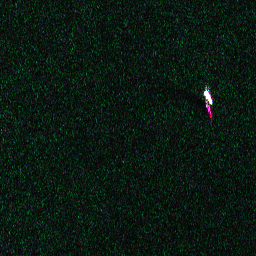ship: (202, 89, 214, 107)
